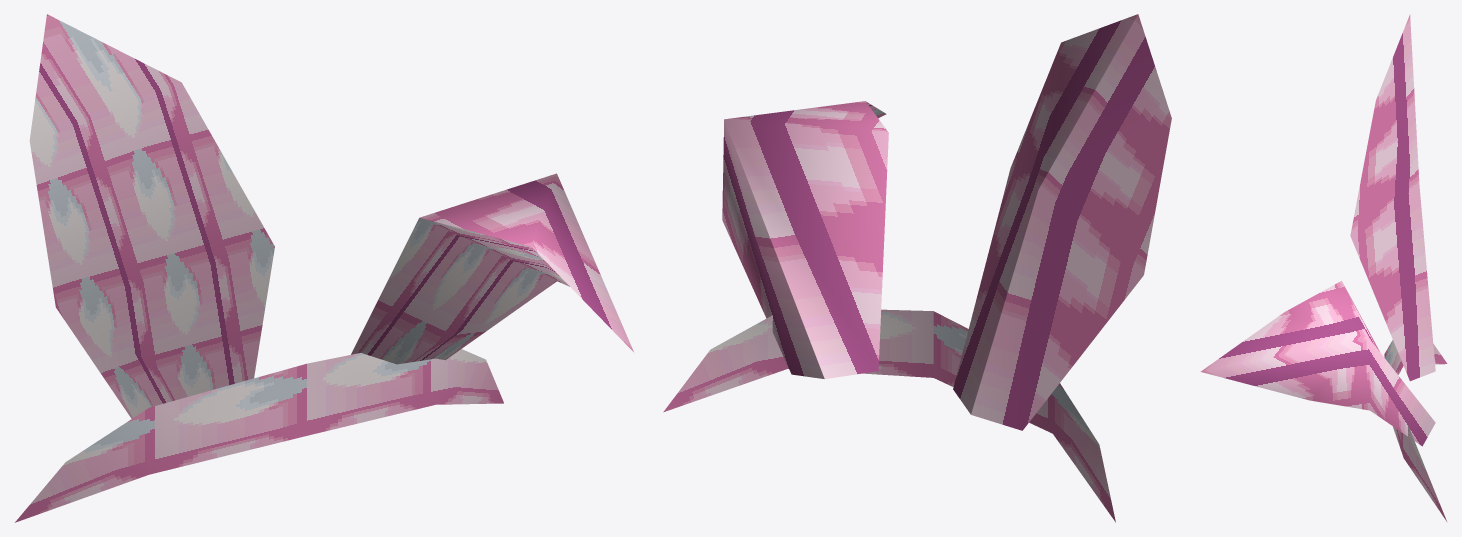
File: 2926head076_c.gltf
3 renders of one model, left to right at view 1: azimuth 30°, elevation 25°; view 2: azimuth 150°, elevation 25°; view 3: azimuth 270°, elevation 25°, orthographic. The views are drawn at different scales.
Visible parts, largest first — view 1: 2926head076_c; view 2: 2926head076_c; view 3: 2926head076_c.
Part boxes in pixels (x1,y1,x2,y2): 2926head076_c: [15, 14, 633, 522]; 2926head076_c: [663, 14, 1171, 522]; 2926head076_c: [1200, 15, 1447, 521].
Size of the model in its own units: 0.6523 by 0.6431 by 0.4102.
Materials: 1 (1 with a texture image).
